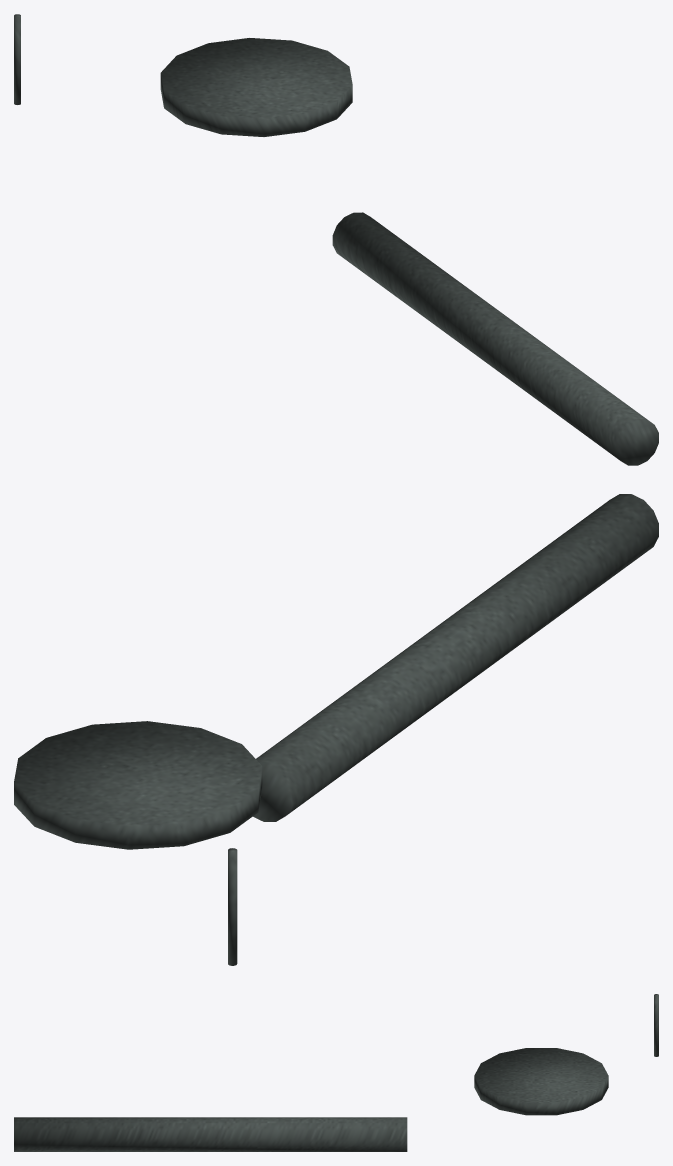
The picture shows the model from 3 angles, top to bottom: view 1: azimuth 30°, elevation 25°; view 2: azimuth 150°, elevation 25°; view 3: azimuth 270°, elevation 25°; orthographic projection. The views are drawn at different scales.
Bounding box in the file's own units: 1 × 0.59 × 3.36.
1 material, 1 textured.
